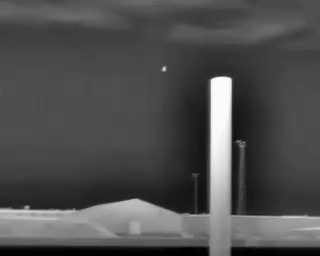BIRD: (159, 63, 169, 75)
